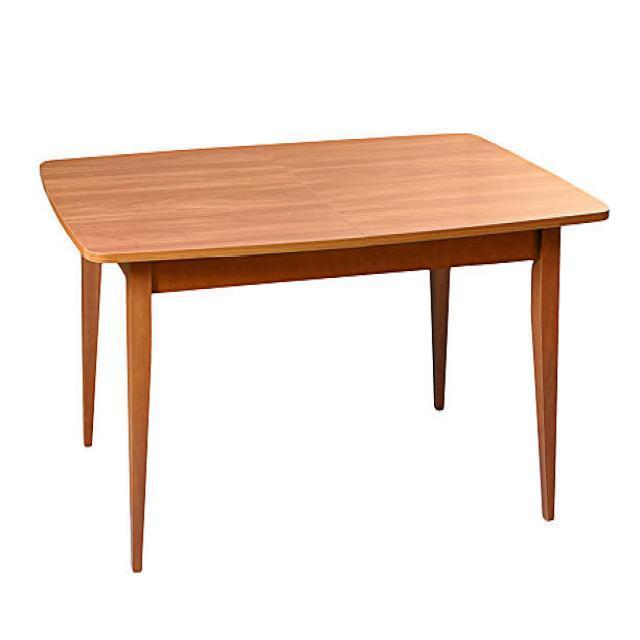table: (38, 130, 610, 572)
